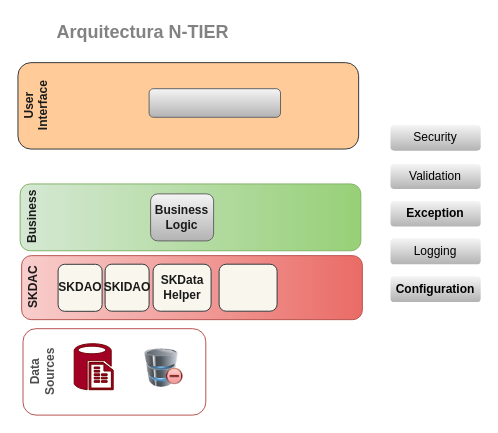
Some shapes in this 498 by 433 pixel diagram are drawn without their labels. The shapes that lost their labels are listed below. From the top down, each one's box as (x1, y1, x2, y2) in pixels, then its label:
(148, 88, 280, 117): UI Component
(218, 263, 277, 311): SKDTO
(73, 343, 113, 390): SQLITE
(145, 348, 183, 387): database
